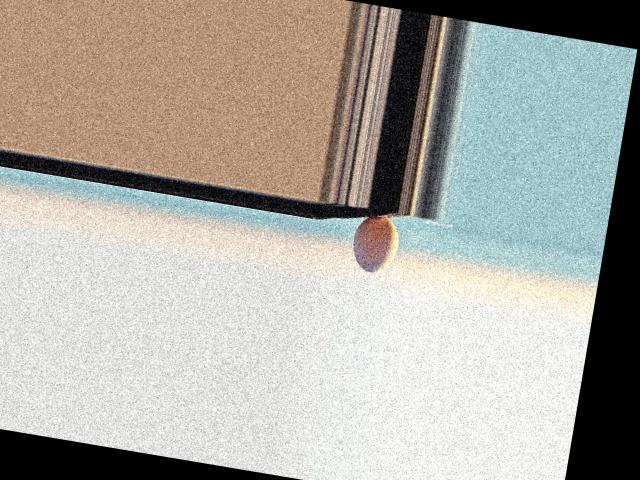egg: (348, 212, 403, 276)
